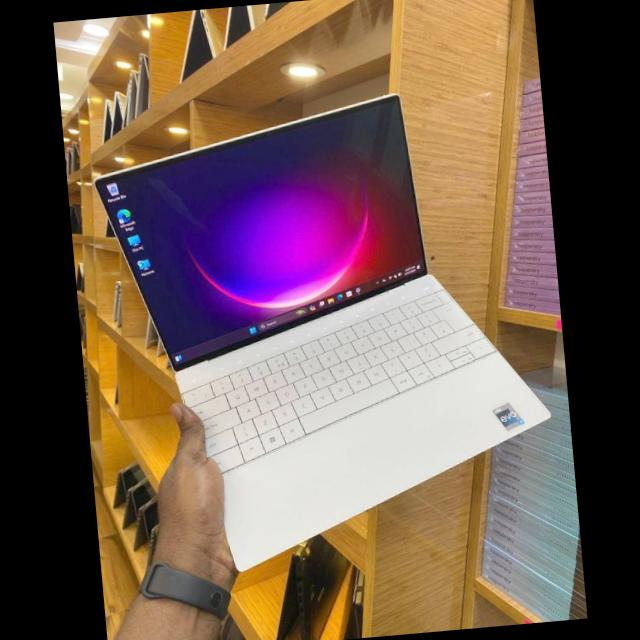laptop: (79, 75, 559, 590)
